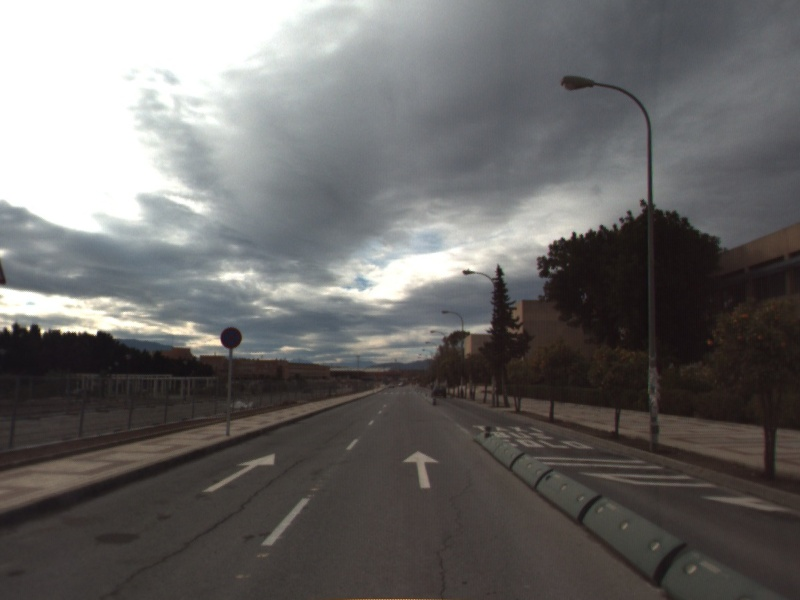STRAIGHT: (199, 451, 277, 494), (400, 448, 441, 490)
